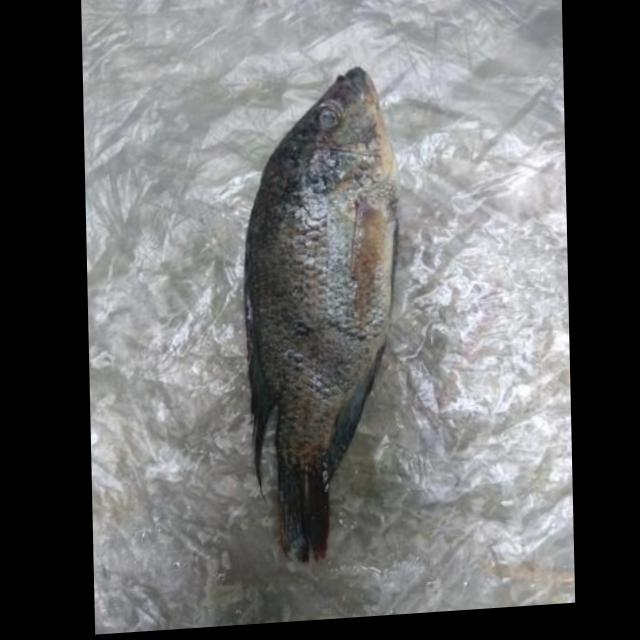Tilapia: (237, 64, 404, 572)
